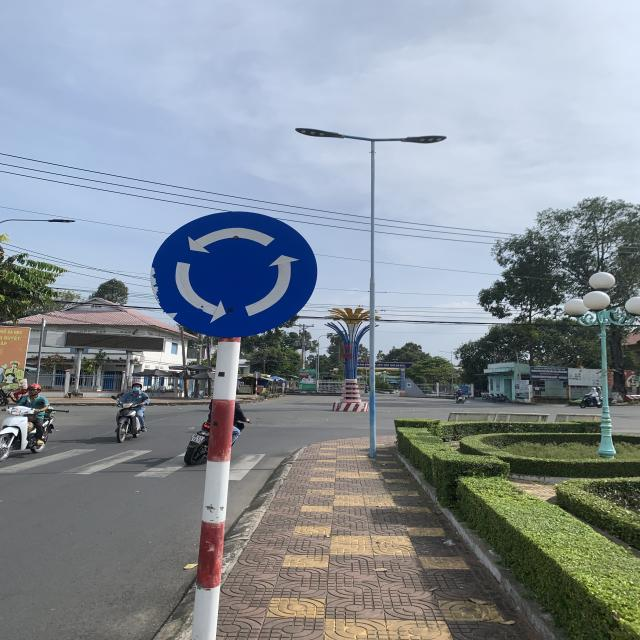Xe_Bus: (152, 210, 318, 340)
